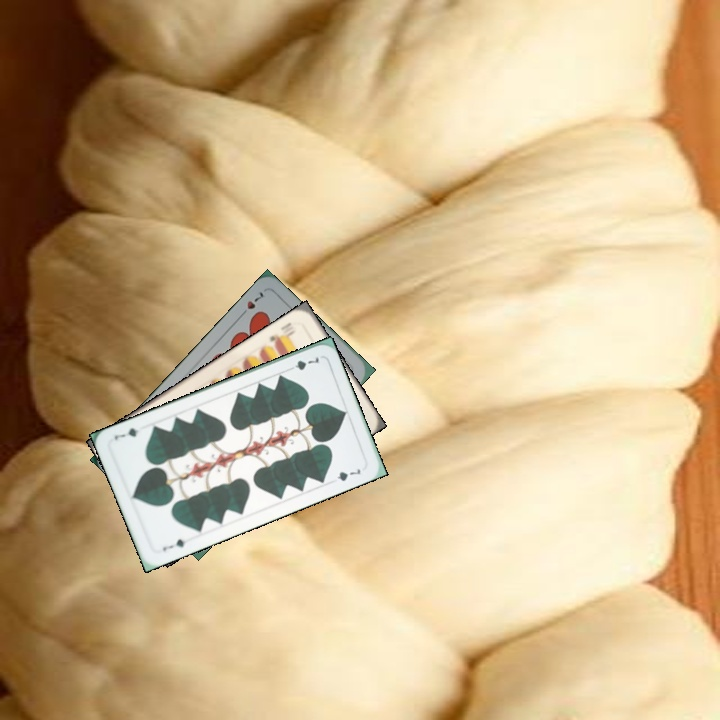E10: (265, 318, 298, 348)
G7: (283, 352, 321, 374), (159, 535, 188, 554)
H7: (235, 287, 267, 320)
